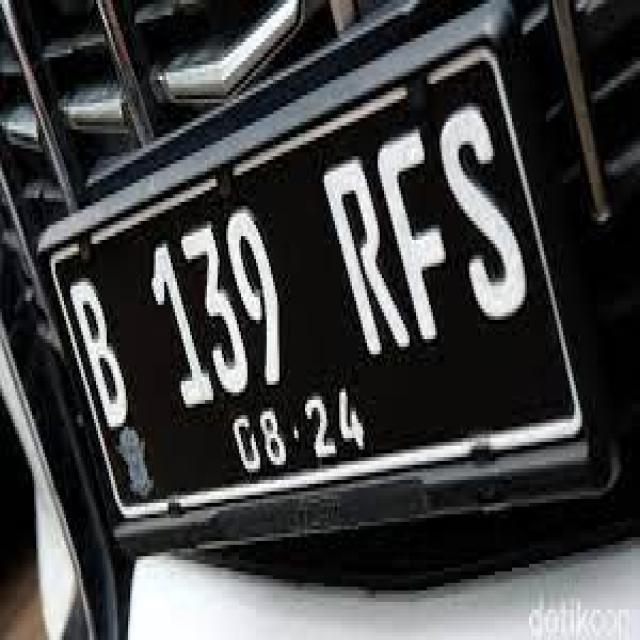lisence-plate: (28, 3, 637, 587)
